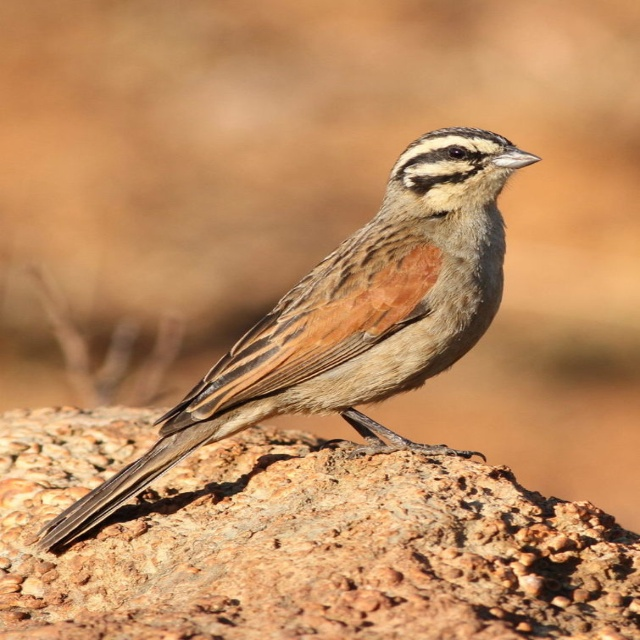Sparrow: (33, 127, 544, 551)
